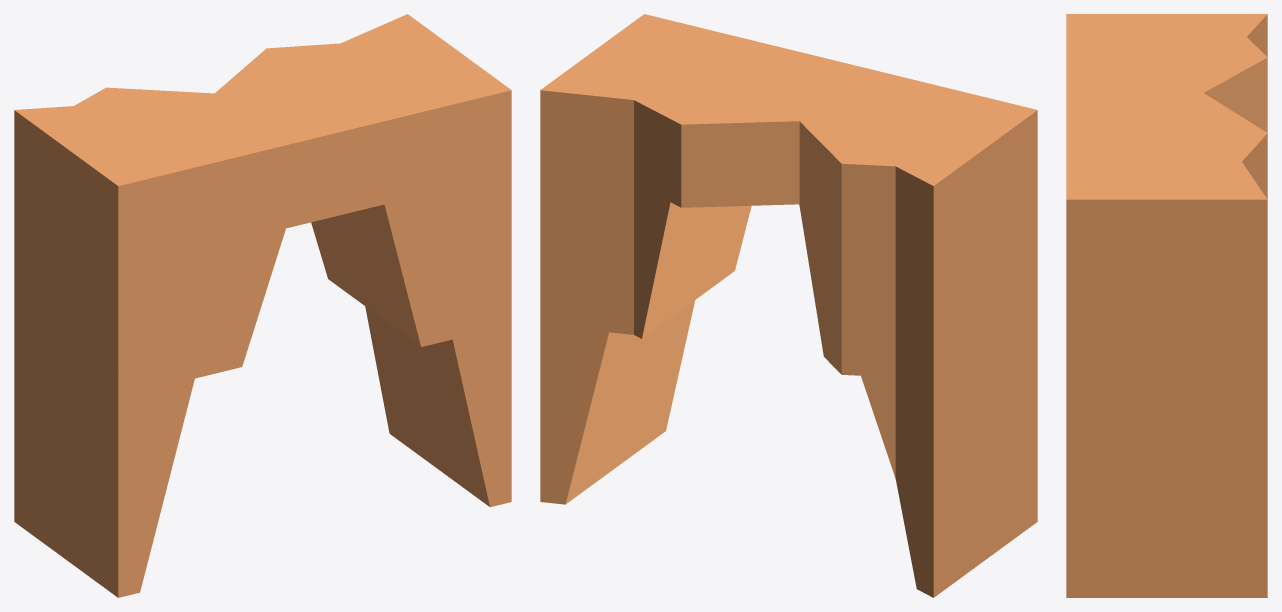
The model's file is cliffBrown_entrance.obj.
The picture shows the model from 3 angles, left to right: view 1: azimuth 30°, elevation 25°; view 2: azimuth 150°, elevation 25°; view 3: azimuth 270°, elevation 25°; orthographic projection. The views are drawn at different scales.
Visible parts, largest first — view 1: cliffBrown_entrance; view 2: cliffBrown_entrance; view 3: cliffBrown_entrance.
Part boxes in pixels (x1,y1,x2,y2): cliffBrown_entrance: (14, 14, 511, 597); cliffBrown_entrance: (540, 14, 1037, 597); cliffBrown_entrance: (1066, 14, 1267, 597).
Size of the model in its own units: 10 by 10 by 4.58.
